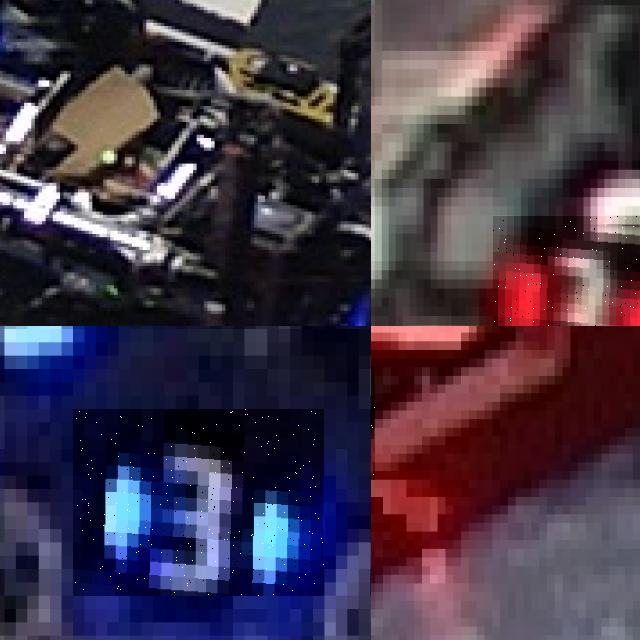B3: (73, 409, 324, 596)
R3: (493, 215, 640, 326)
